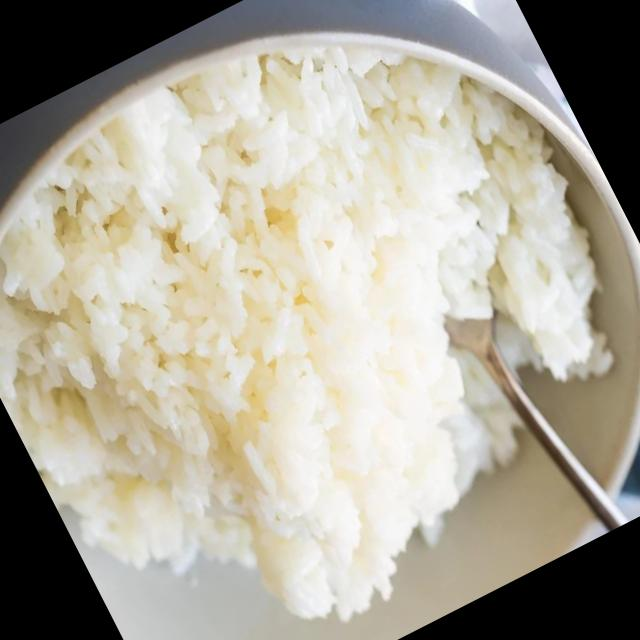rice: (0, 48, 609, 615)
